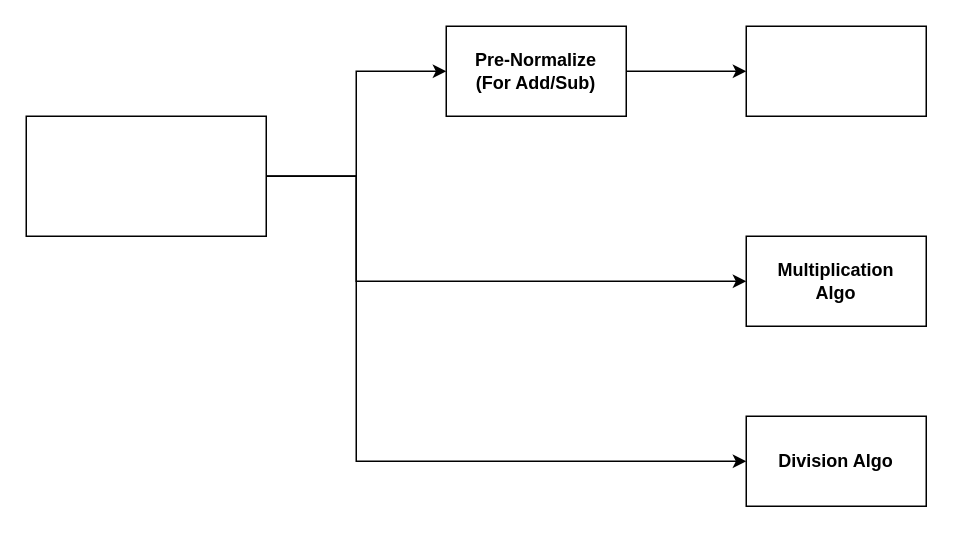
This 953x533 diagram has some shape labels left out. The box of each missing label's shape, as (x1, y1, x2, y2) in pixels:
Addition/Subtraction: (745, 25, 926, 116)
Normalize_To_IEEE754: (25, 115, 266, 236)
